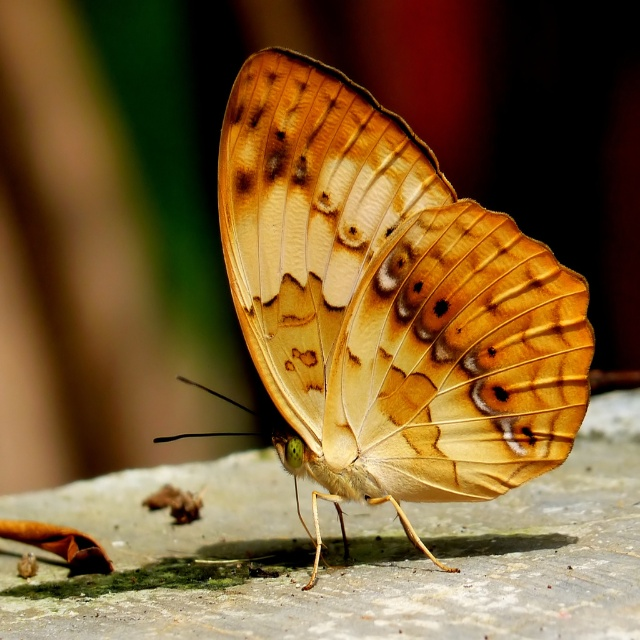Butterfly: (153, 45, 596, 591)
